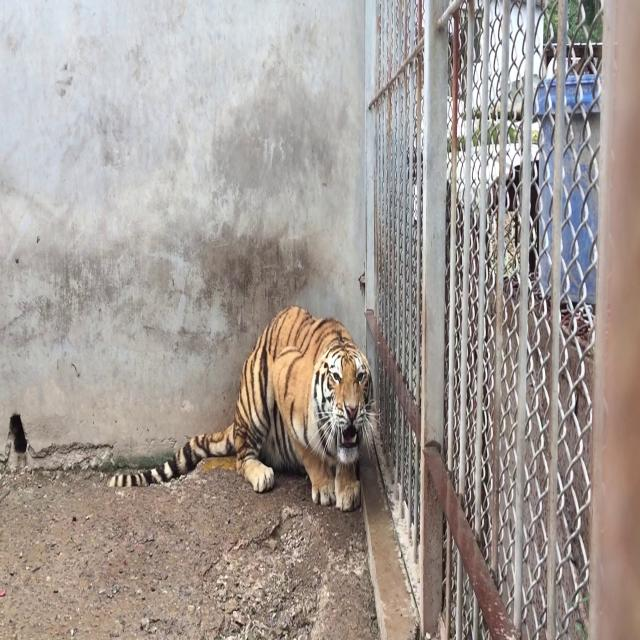Tiger: (85, 262, 407, 528)
